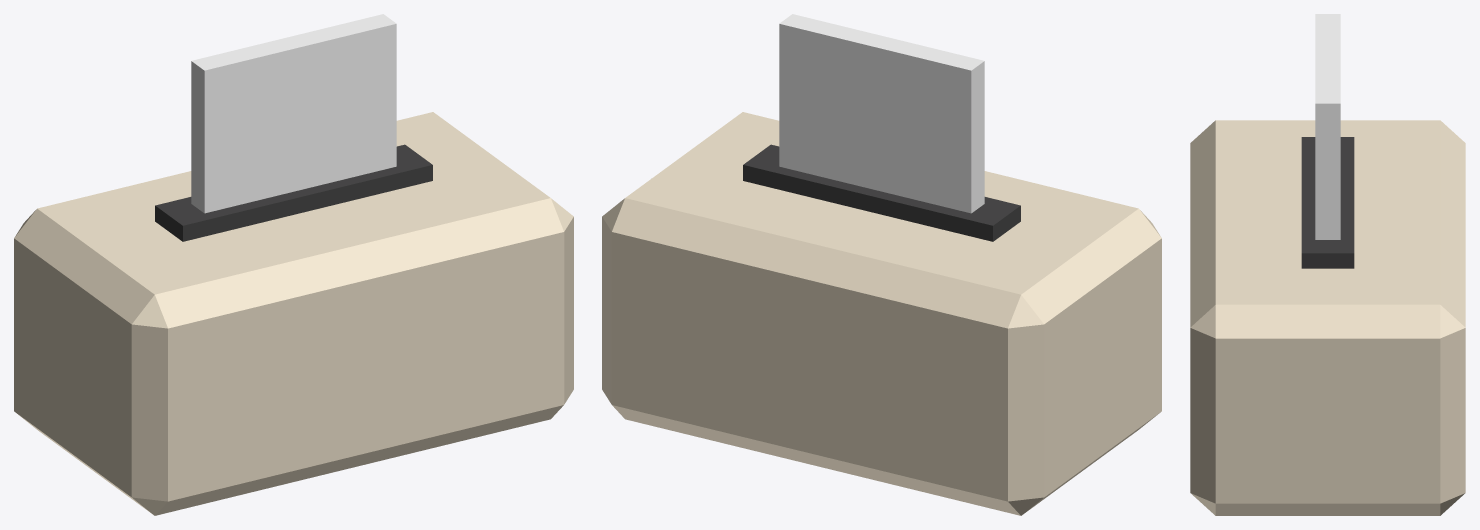
The picture shows the model from 3 angles, left to right: view 1: azimuth 30°, elevation 25°; view 2: azimuth 150°, elevation 25°; view 3: azimuth 270°, elevation 25°; orthographic projection. The views are drawn at different scales.
Visible parts, largest first — view 1: Tissue box, Tissue, Slot; view 2: Tissue box, Tissue, Slot; view 3: Tissue box, Tissue, Slot.
Part boxes in pixels (x1=…): Tissue box: x1=14, y1=112, x2=573, y2=515; Tissue: x1=191, y1=14, x2=396, y2=213; Slot: x1=155, y1=144, x2=432, y2=241; Tissue box: x1=602, y1=112, x2=1161, y2=515; Tissue: x1=779, y1=14, x2=984, y2=213; Slot: x1=743, y1=144, x2=1020, y2=241; Tissue box: x1=1190, y1=120, x2=1465, y2=515; Tissue: x1=1315, y1=14, x2=1340, y2=239; Slot: x1=1301, y1=137, x2=1354, y2=268.
Bounding box in the file's own units: 23 × 19 × 13.
